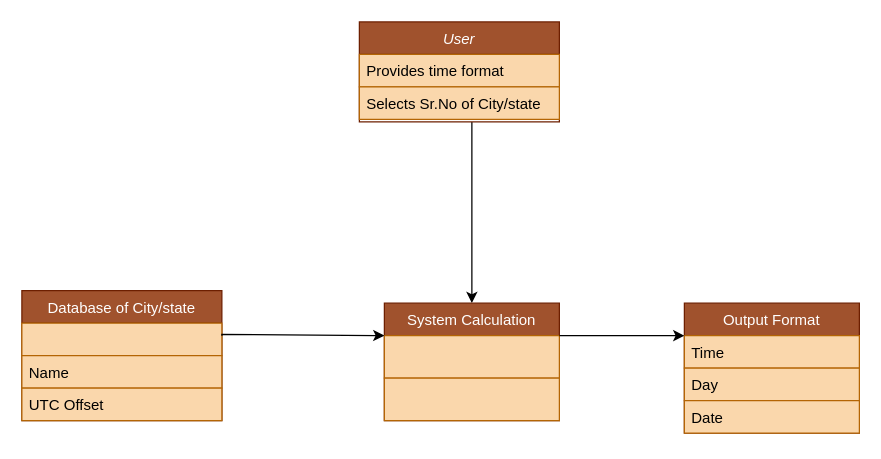
The diagram is 881 pixels wide and 459 high, and some of its shapes have lost their labels. Here are the shapes that lost their labels. From the top down, the centre of each, then its label:
At [121,339]: "Serial no".
At [471,356]: "Conversion into 12/24Hr".
At [471,399]: "Time of the city/state".
